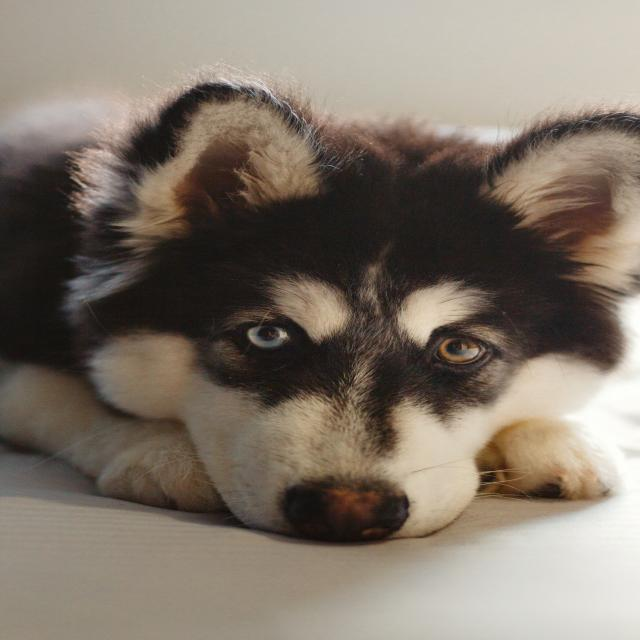Dog: (0, 69, 640, 548)
